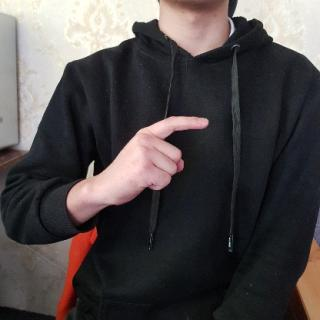RAA: (98, 108, 210, 218)
